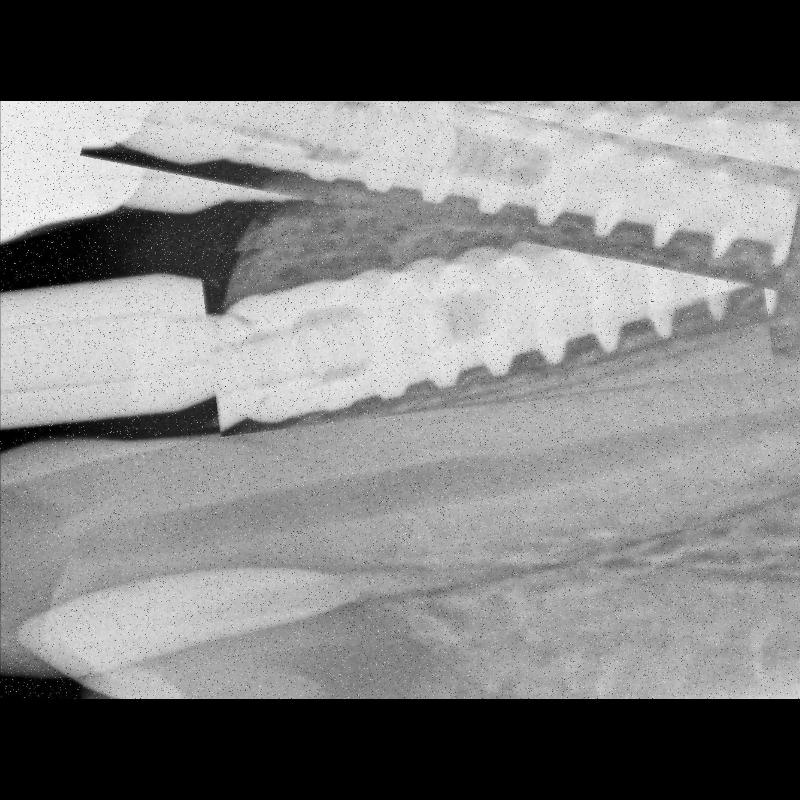ADIN: (204, 204, 770, 420), (83, 102, 800, 258)
